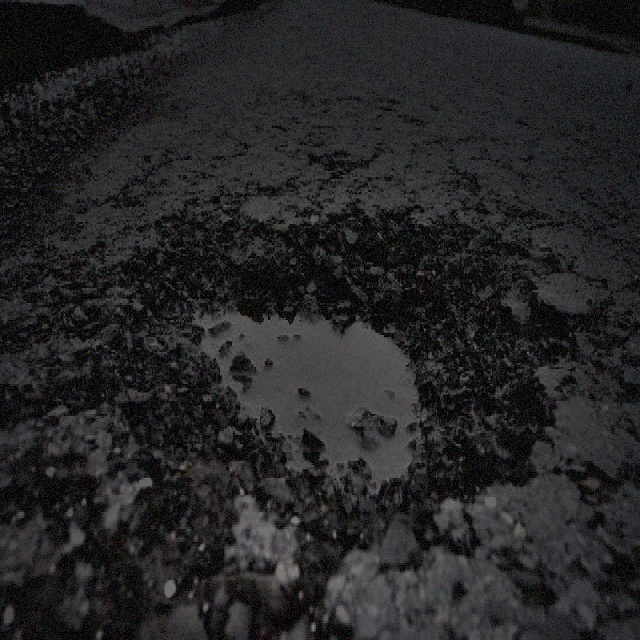pothole: (112, 201, 560, 534)
